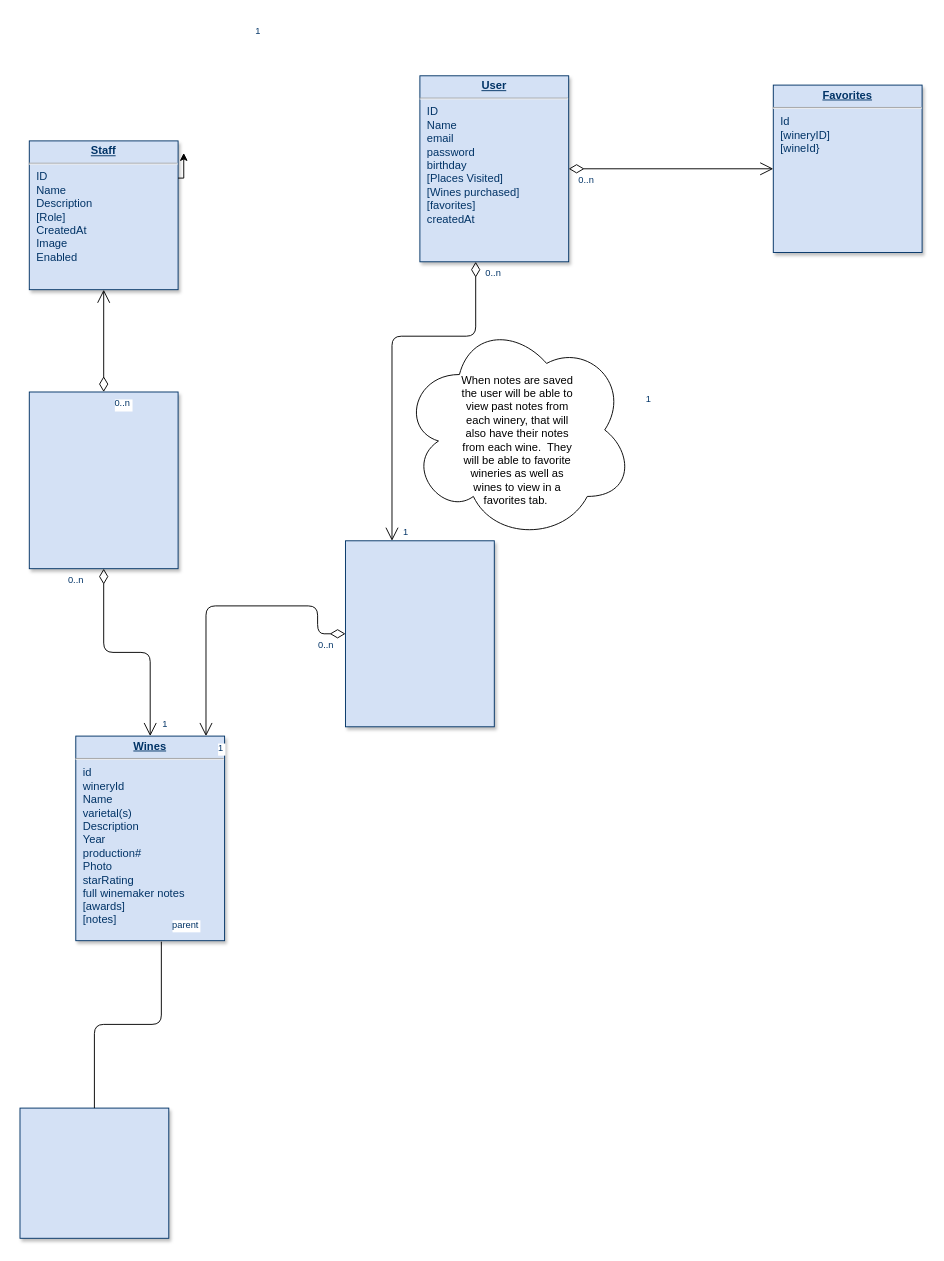
The diagram is 944 pixels wide and 1261 high, and some of its shapes have lost their labels. Here are the shapes that lost their labels. From the top down, the centre of each, then its label:
the point at 104,481: Winery ID Name CreatedAt Description Location Region [wines] [Ratings] [staff]
the point at 420,634: Notes ID UserID Name Description star rating purchased
the point at 94,1174: Awards Id Name points(rank) category(optional)
